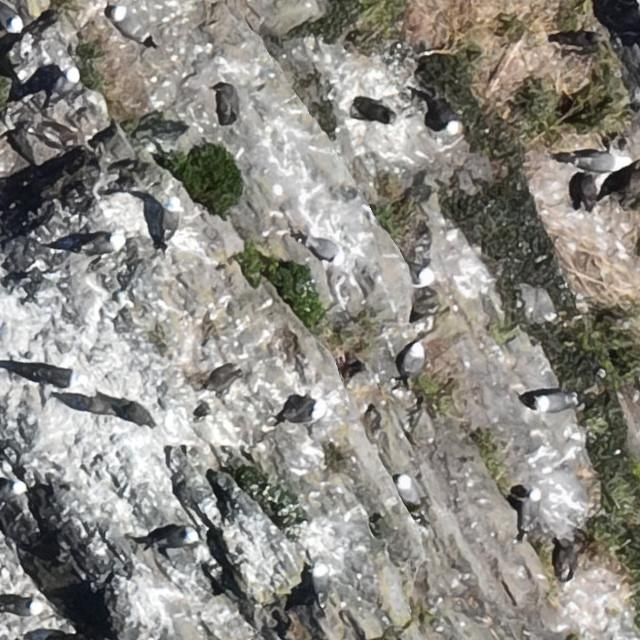umineko: (39, 364, 88, 390), (145, 524, 200, 546), (283, 398, 329, 424), (113, 8, 150, 40), (578, 150, 633, 171), (434, 97, 460, 136), (80, 233, 126, 253), (312, 560, 329, 610), (524, 488, 543, 530), (306, 237, 338, 259), (412, 259, 435, 289), (536, 394, 573, 412), (403, 346, 423, 376), (1, 4, 23, 31), (399, 476, 418, 504), (7, 600, 39, 616), (163, 203, 178, 236), (2, 480, 25, 501), (61, 64, 78, 86)
